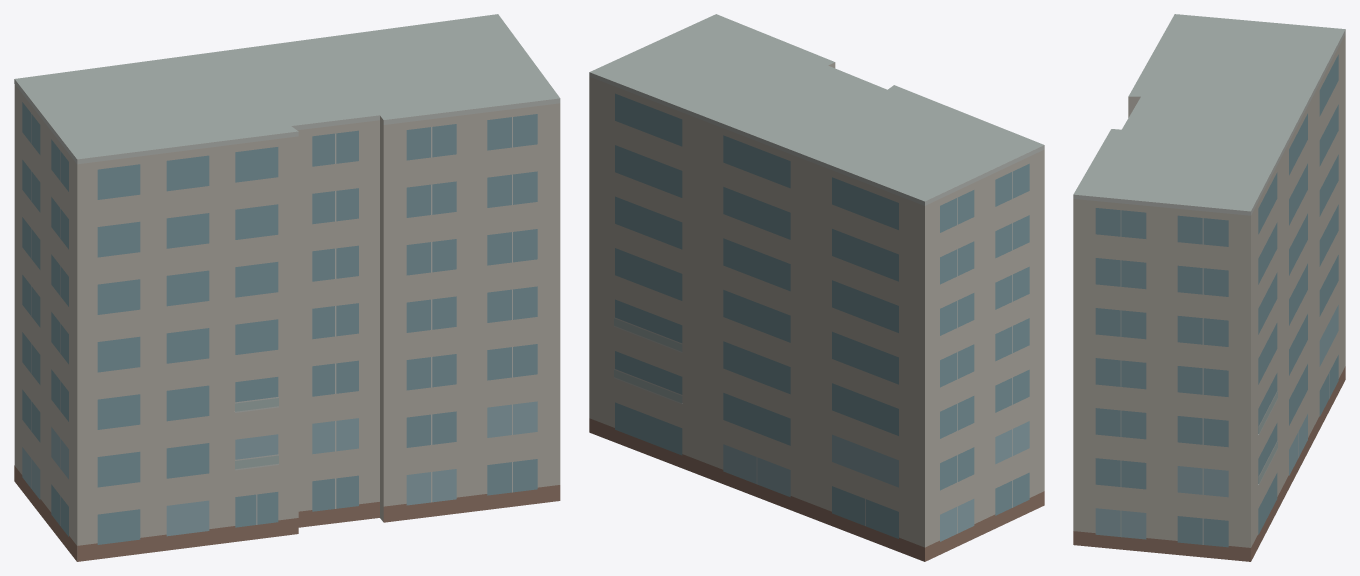
The model's file is survey-upis-32652868.glb.
The picture shows the model from 3 angles, left to right: view 1: azimuth 30°, elevation 25°; view 2: azimuth 150°, elevation 25°; view 3: azimuth 270°, elevation 25°; orthographic projection. The views are drawn at different scales.
Parts seen in each view (by area): view 1: survey-upis-32652868.tmp; view 2: survey-upis-32652868.tmp; view 3: survey-upis-32652868.tmp.
Part boxes in pixels (box(x1,y1,x2,y2)): survey-upis-32652868.tmp: box(14, 14, 560, 561); survey-upis-32652868.tmp: box(589, 14, 1044, 561); survey-upis-32652868.tmp: box(1073, 14, 1345, 561).
Bounding box in the file's own units: 24.18 × 20 × 14.1.
